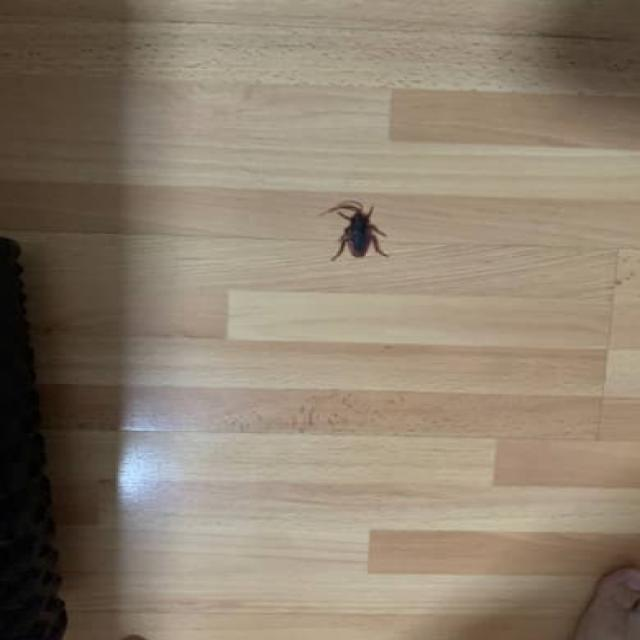Cockroach: (316, 192, 391, 263)
